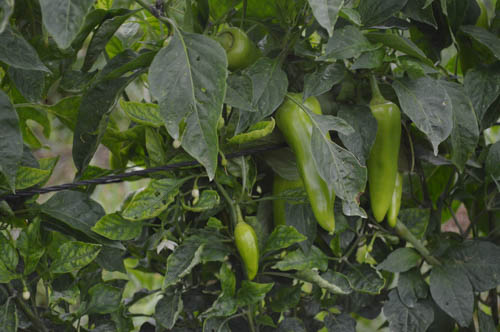ChiliPepper: (280, 93, 337, 236), (369, 102, 399, 227), (218, 23, 260, 73), (236, 224, 260, 281), (389, 176, 410, 232)
